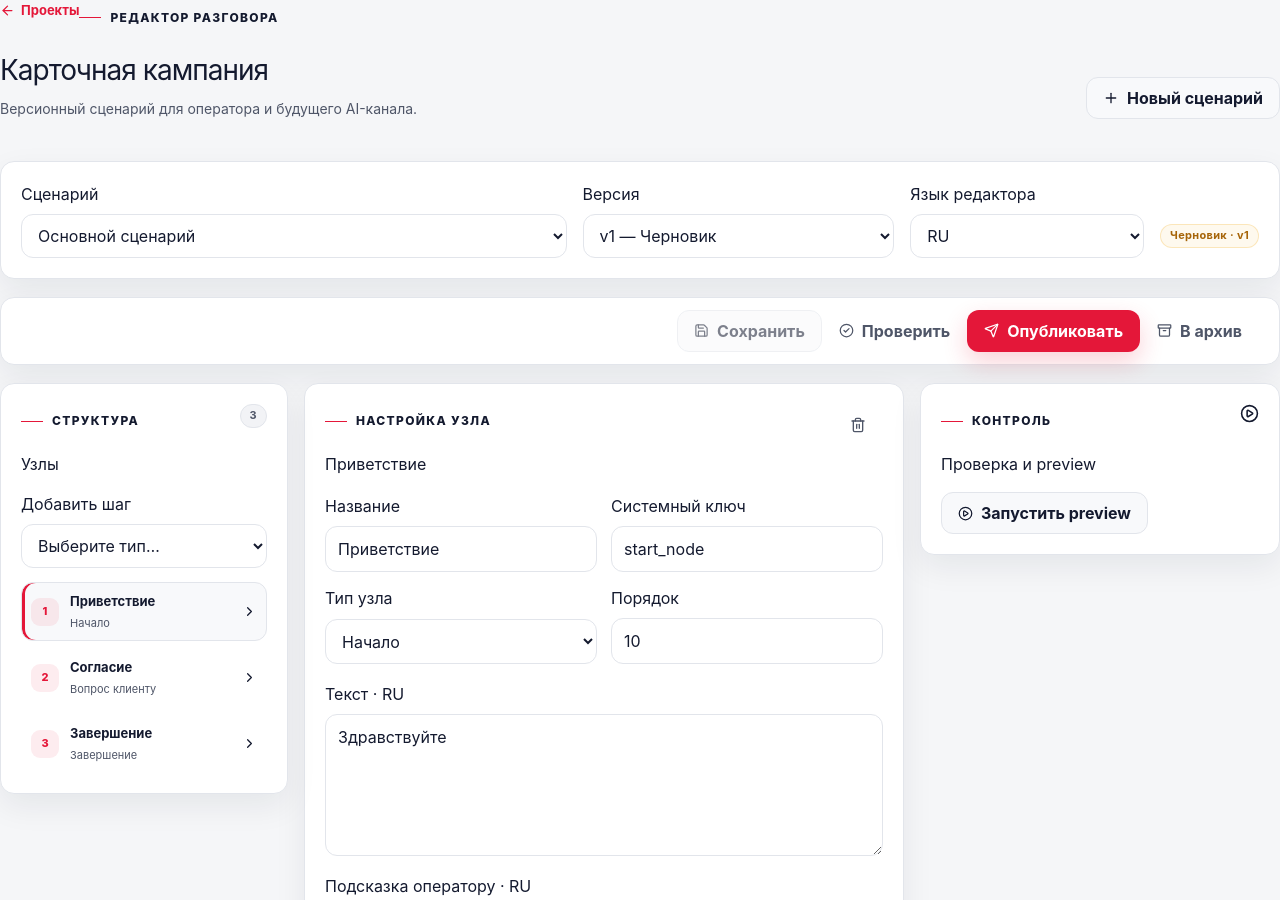
Test: call flow editor › runs a safe preview through the selected answer
This screenshot has width=1280, height=900.
Click the button "Запустить preview" at (1044, 513), box [941, 492, 1148, 534]
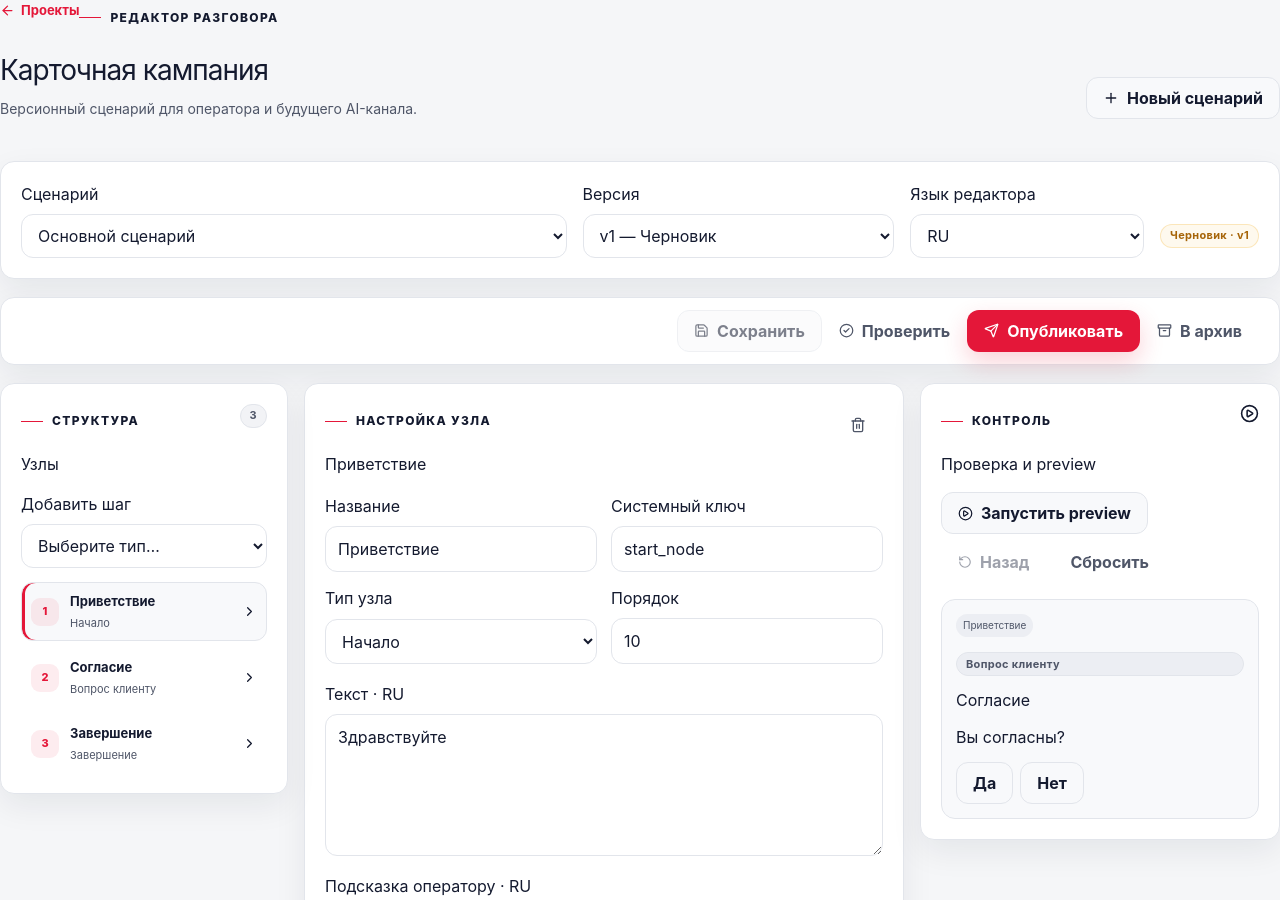
Check: the text "Вы согласны?" is shown, box [956, 727, 1065, 747]
Click the button "Да" at (985, 783), box [956, 762, 1013, 804]
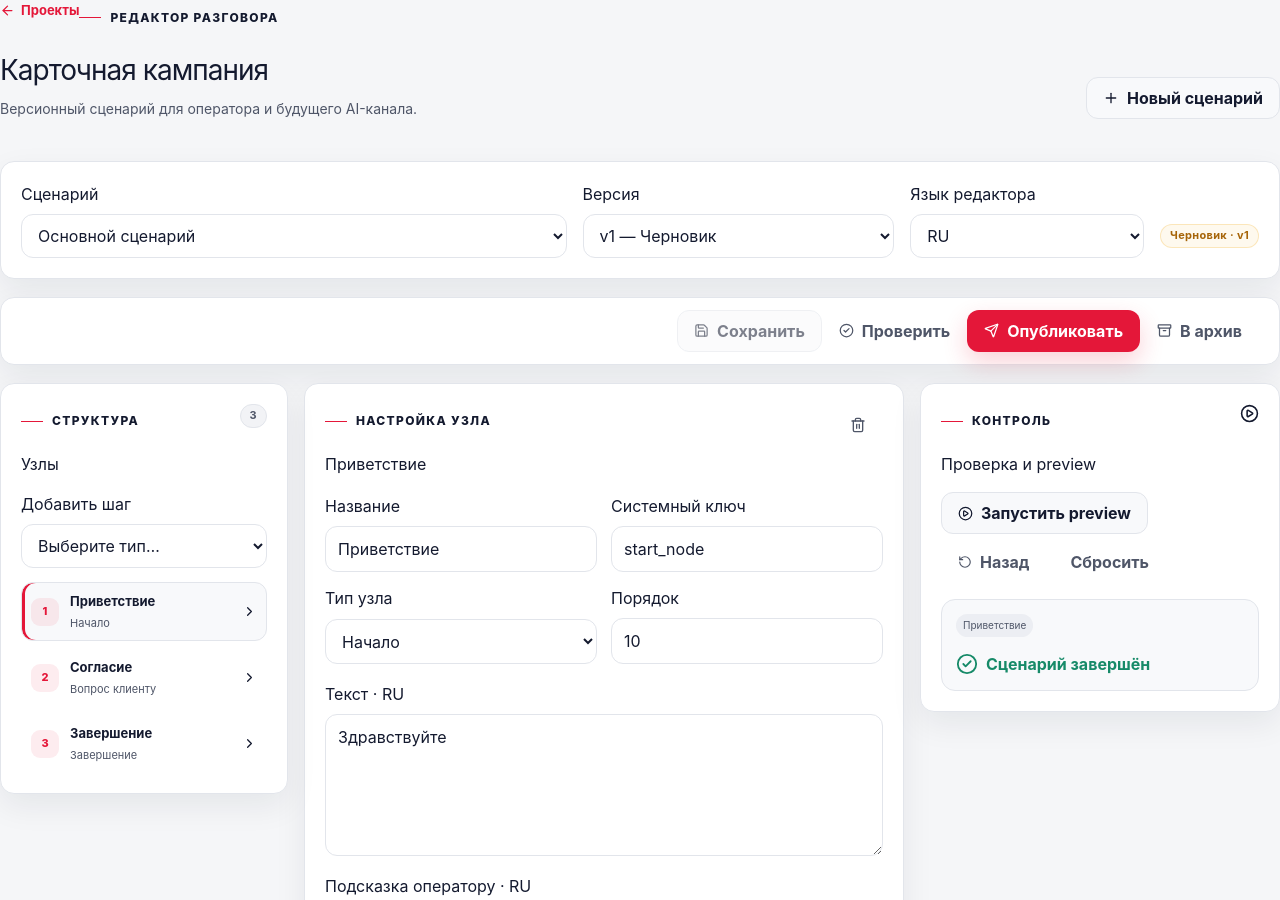
Check: the text "Сценарий завершён" is shown, box [986, 652, 1150, 676]
